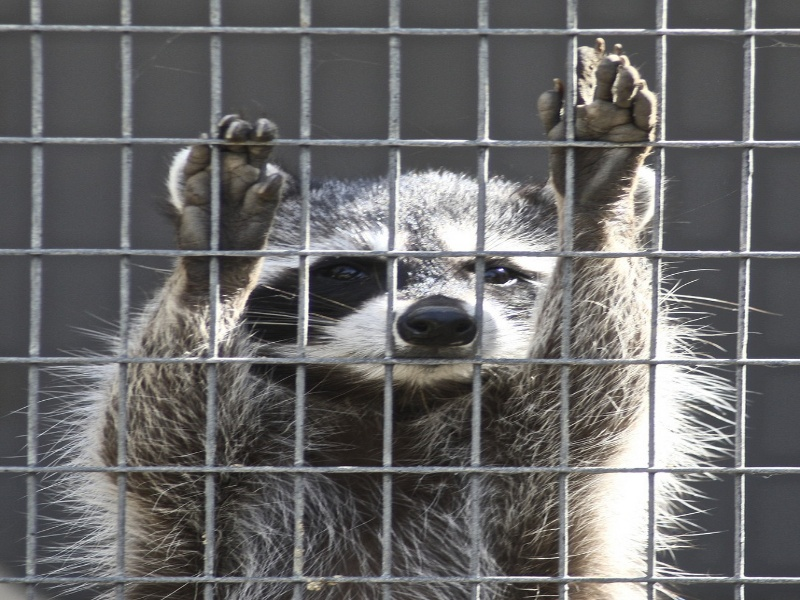raccoon: (43, 37, 722, 594)
